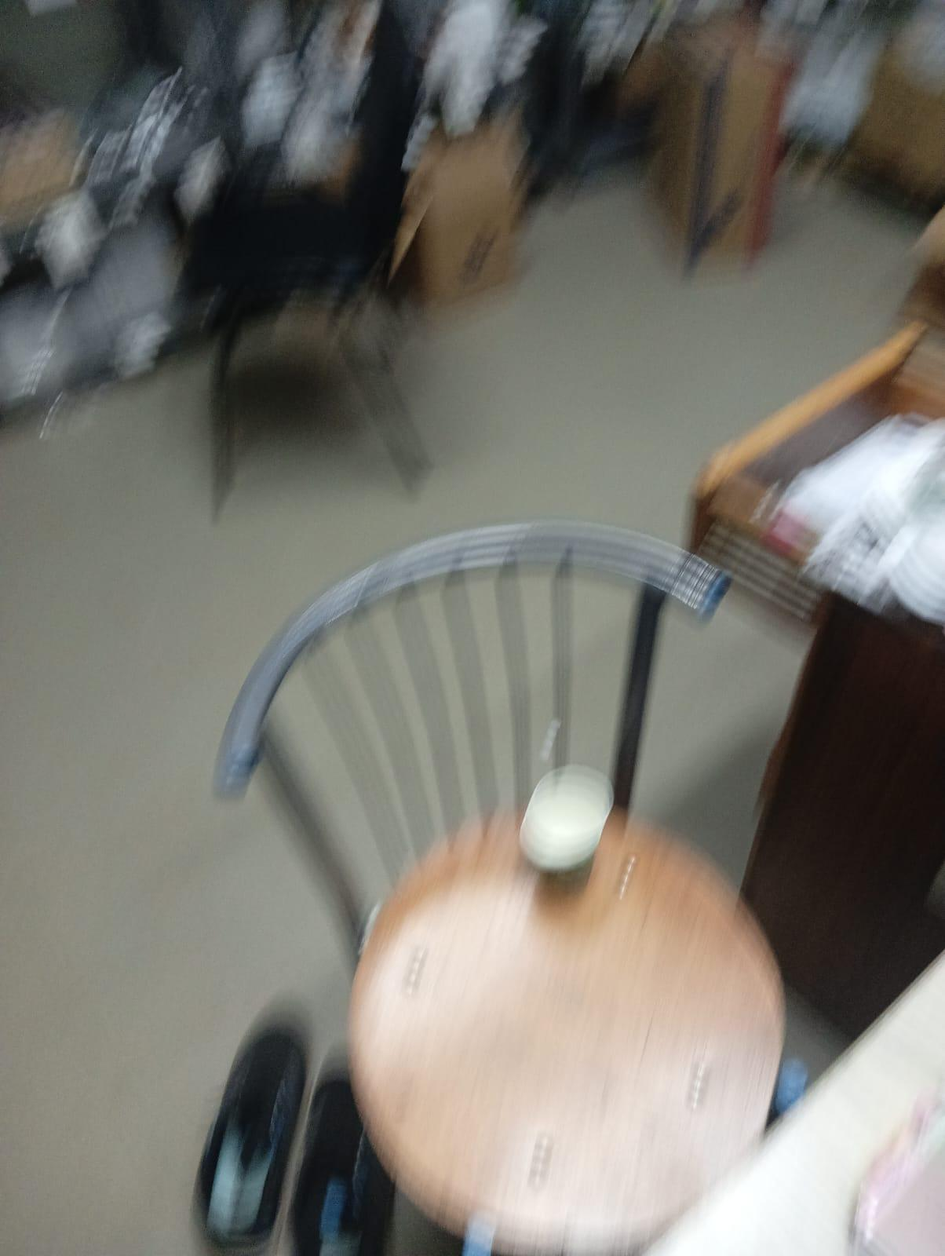cup: (520, 766, 612, 888)
